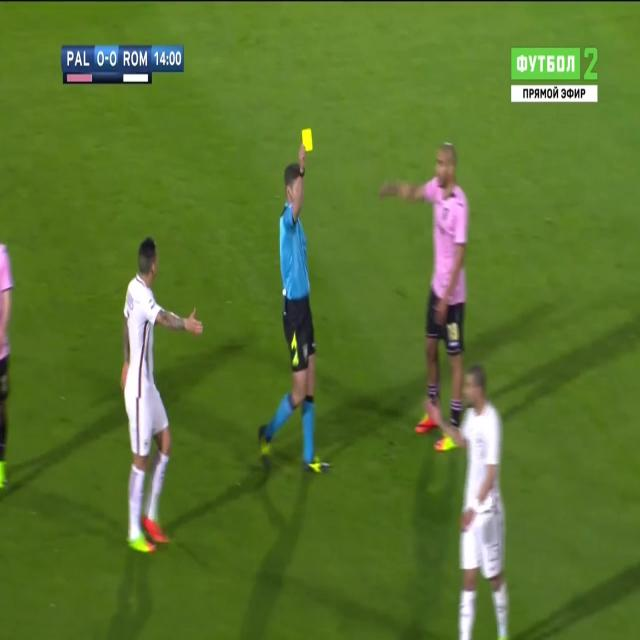Player: (377, 138, 472, 451), (122, 232, 208, 561), (419, 362, 511, 640), (0, 239, 13, 492)
Referee: (257, 142, 332, 478)
